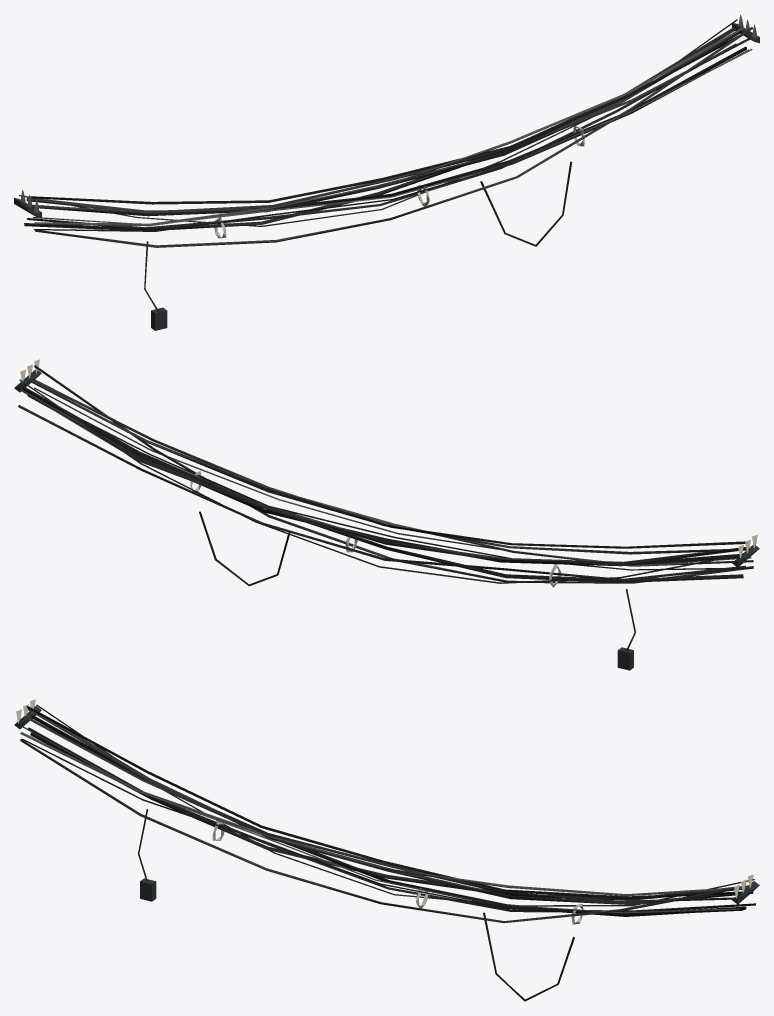
The model's file is day_dien.glb.
The picture shows the model from 3 angles, top to bottom: view 1: azimuth 30°, elevation 25°; view 2: azimuth 150°, elevation 25°; view 3: azimuth 330°, elevation 25°; orthographic projection.
Parts seen in each view (by area): view 1: day_dien; view 2: day_dien; view 3: day_dien.
Part boxes in pixels (bbox=[...]): day_dien: bbox=[14, 14, 759, 330]; day_dien: bbox=[14, 359, 759, 670]; day_dien: bbox=[14, 699, 759, 1001].
Size of the model in its own units: 6.05 by 1.37 by 0.32.
